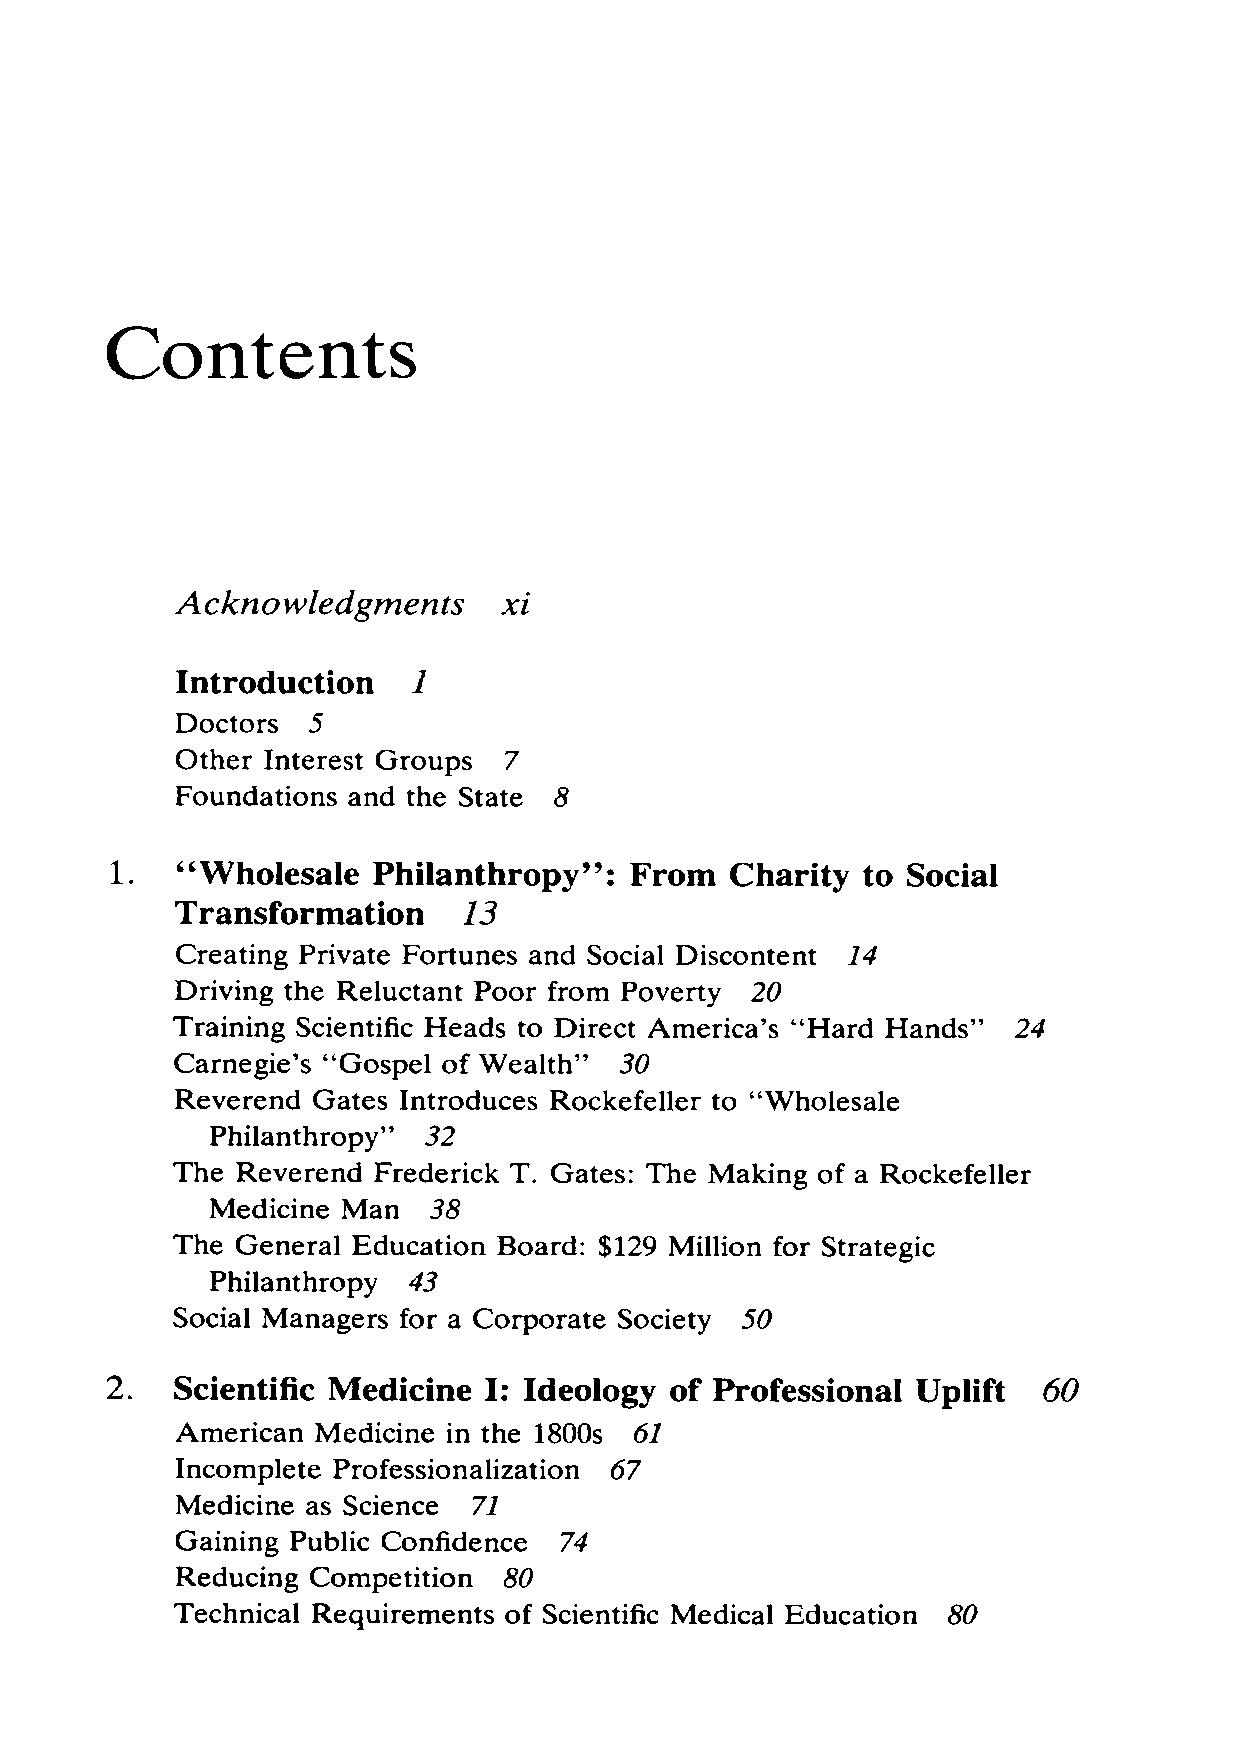TOC_chapter: (103, 854, 1002, 896), (99, 1372, 1011, 1410), (172, 1157, 1033, 1188), (169, 1232, 939, 1266), (172, 1084, 899, 1119), (168, 1015, 990, 1041), (173, 1600, 921, 1629), (166, 973, 723, 1009), (166, 1304, 713, 1337), (174, 942, 820, 968), (172, 1414, 611, 1449), (170, 1045, 593, 1079), (173, 1453, 585, 1486), (173, 1526, 527, 1557), (172, 743, 474, 777), (170, 588, 468, 621), (173, 782, 525, 811), (174, 1563, 474, 1593), (173, 896, 429, 926), (173, 1490, 442, 1518), (173, 666, 374, 698), (207, 1192, 403, 1223), (205, 1268, 378, 1302), (205, 1121, 393, 1151), (173, 709, 283, 735)
TOC_pagenumber: (458, 898, 501, 929), (1041, 1372, 1082, 1404), (841, 938, 883, 968), (423, 1196, 468, 1223), (502, 586, 539, 617), (552, 1527, 595, 1554), (407, 1270, 446, 1296), (1013, 1012, 1047, 1041), (608, 1455, 645, 1480), (615, 1049, 651, 1075), (747, 980, 782, 1005), (738, 1306, 773, 1331), (631, 1418, 663, 1444), (424, 1123, 458, 1147), (468, 1492, 501, 1516), (947, 1602, 980, 1627), (409, 666, 436, 692), (503, 1565, 534, 1588), (497, 743, 521, 772), (305, 709, 327, 735), (552, 784, 570, 811)
chapter: (103, 322, 420, 384)
